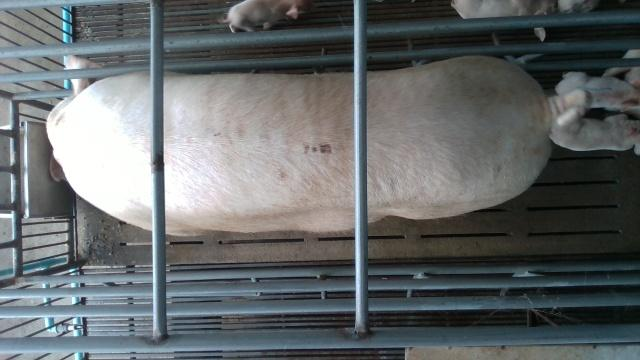piglet: (549, 107, 640, 156), (555, 72, 640, 113), (219, 0, 317, 32), (451, 0, 558, 17)
sow-stand: (47, 56, 591, 234)
